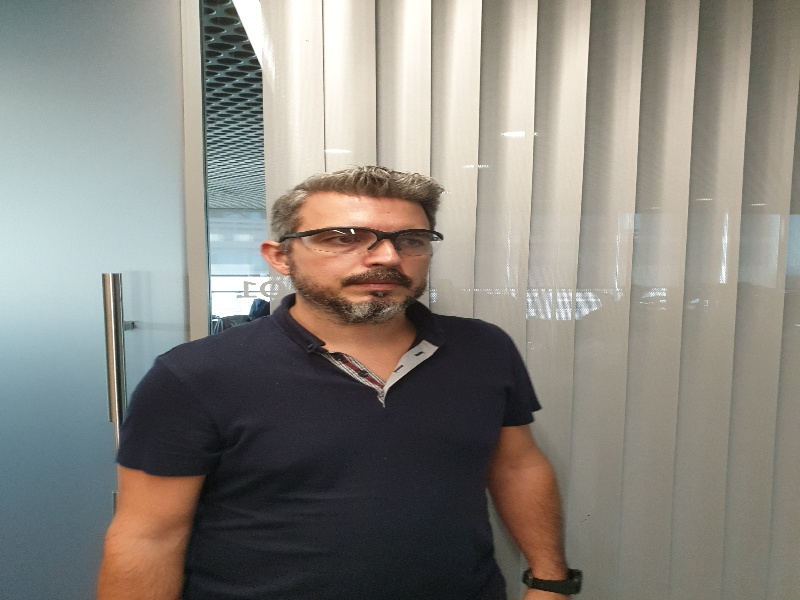Gozluk: (279, 227, 442, 255)
